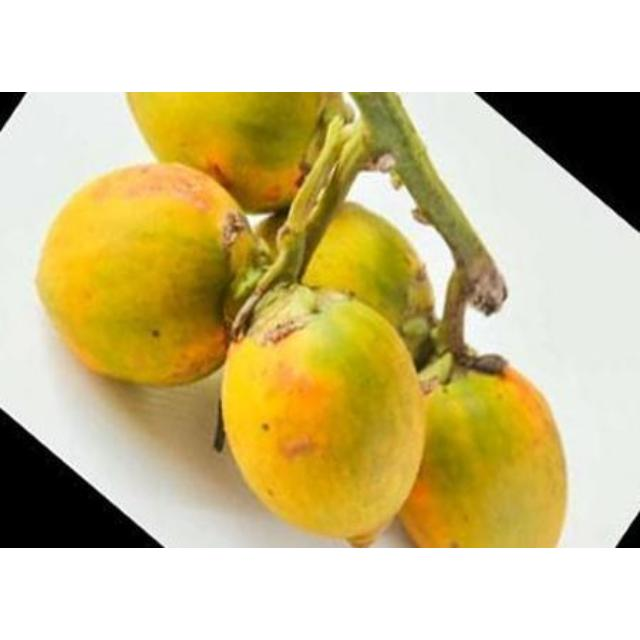good: (224, 286, 426, 544), (35, 164, 252, 386), (396, 352, 562, 548), (124, 94, 338, 214), (258, 202, 430, 342)
